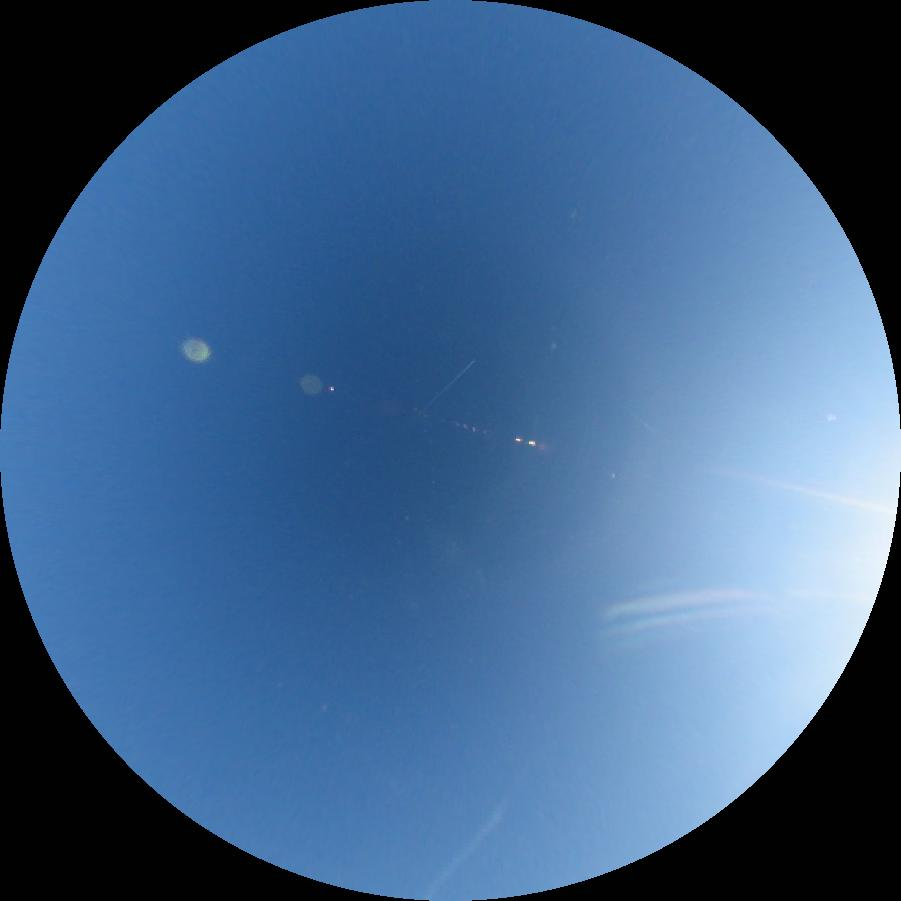contrail veryold: (425, 793, 513, 899)
contrail young: (421, 360, 475, 411), (624, 405, 653, 433)
parasite: (700, 467, 885, 510), (604, 587, 789, 621), (609, 606, 770, 633)
